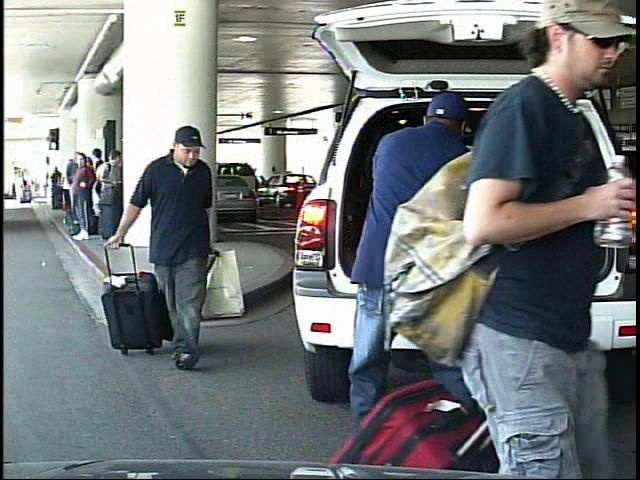person: (416, 12, 609, 476), (328, 78, 505, 475), (103, 123, 236, 376), (13, 173, 24, 204)
